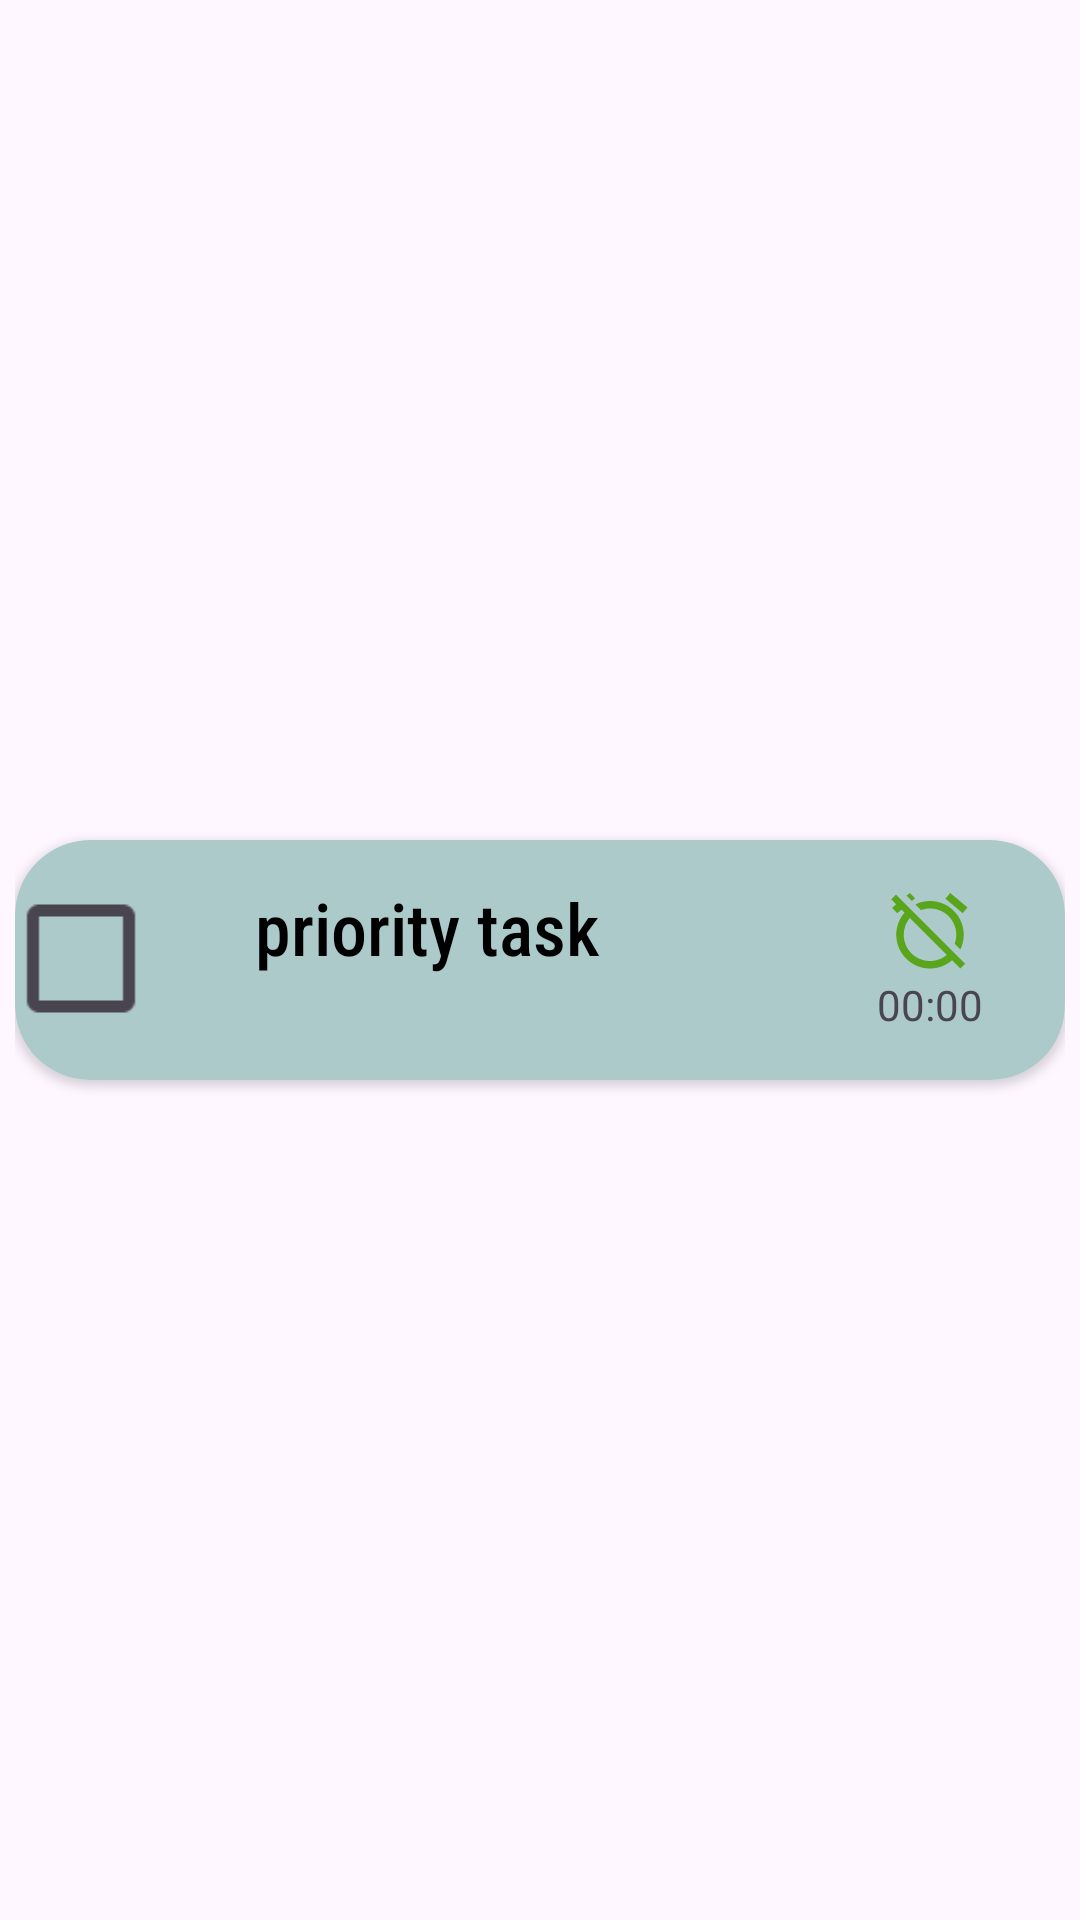

Named icons in this screenshot (1080px x 1920px) and their bounding boxes, (x1, y1, x2, y2):
alarm off: (891, 893, 968, 969)
